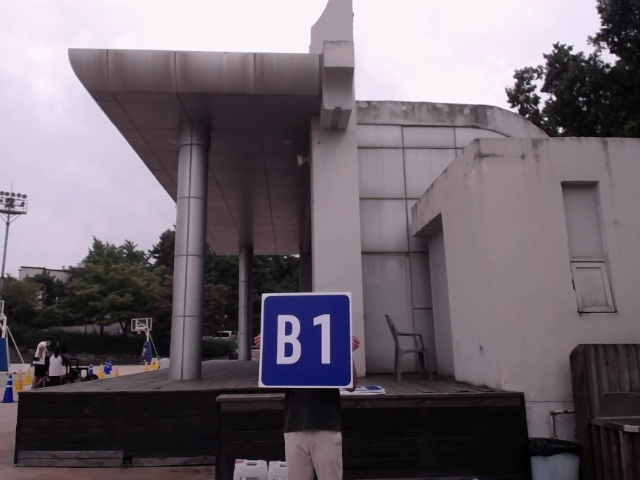delivery_b1: (259, 293, 353, 387)
